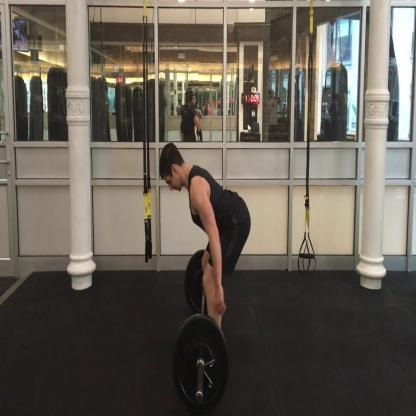barbell: (168, 246, 230, 416)
